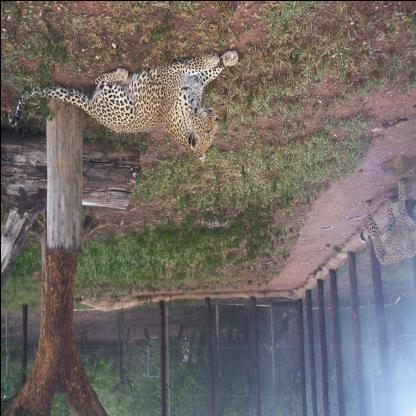leopard: (186, 97, 220, 161)
